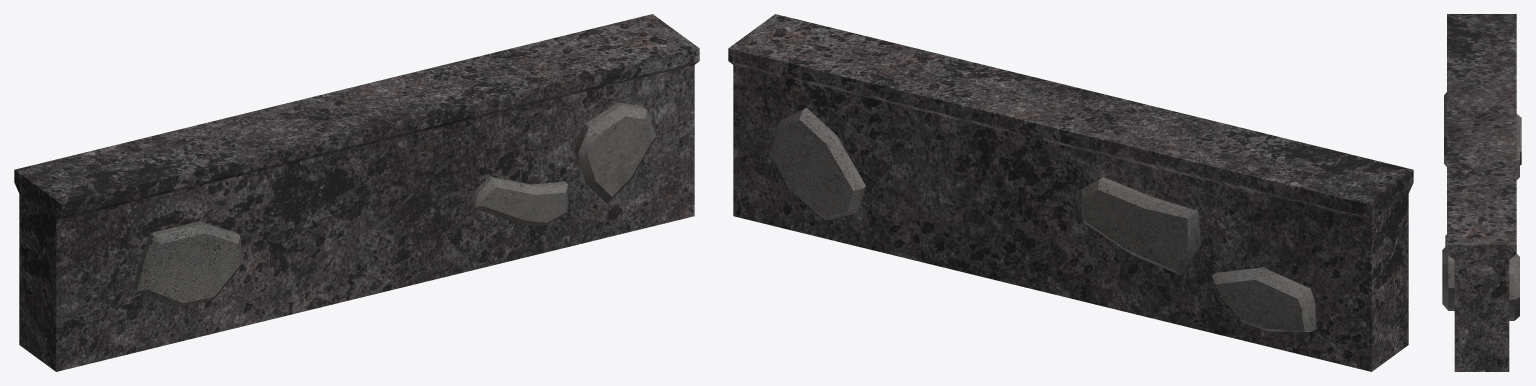
File: Wall_short4.fbx
3 views of the same model, side by side, from view 1: azimuth 30°, elevation 25°; view 2: azimuth 150°, elevation 25°; view 3: azimuth 270°, elevation 25° (orthographic). The views are drawn at different scales.
Parts seen in each view (by area): view 1: Wall_short4; view 2: Wall_short4; view 3: Wall_short4.
Part boxes in pixels (bbox=[...]): Wall_short4: bbox=[14, 14, 699, 371]; Wall_short4: bbox=[728, 14, 1413, 371]; Wall_short4: bbox=[1442, 14, 1521, 371].
Size of the model in its own units: 3 by 0.7703 by 0.4357.
1 material, 1 textured.
